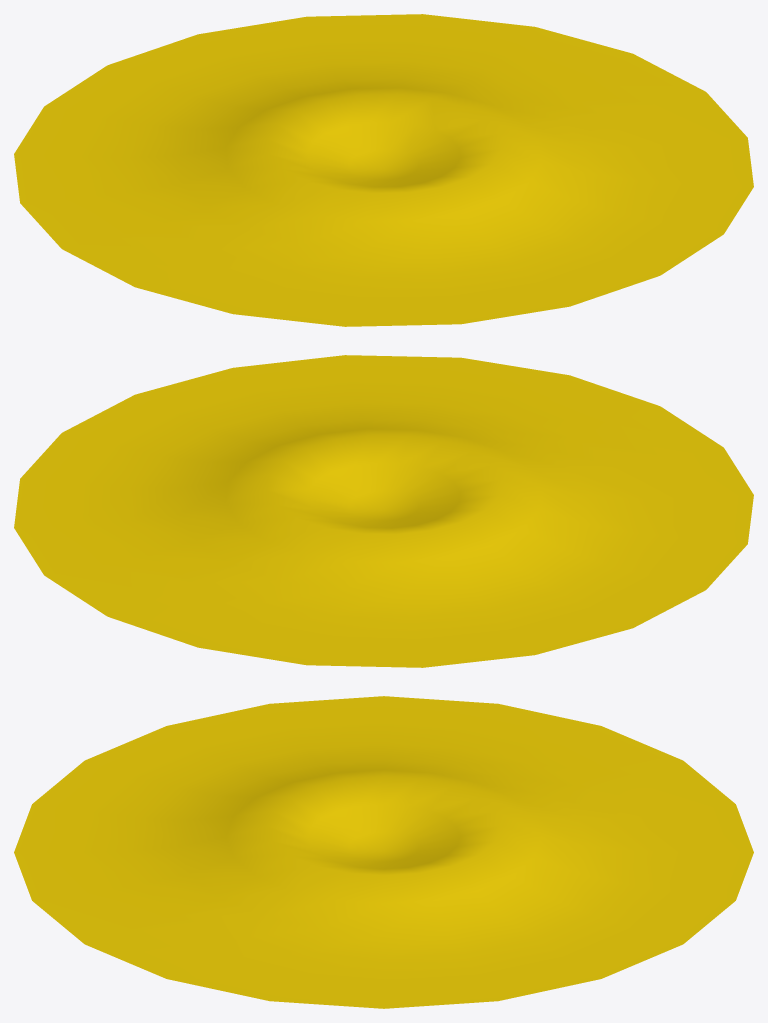
File: BeerShockwave_1.fbx
3 renders of one model, top to bottom at view 1: azimuth 30°, elevation 25°; view 2: azimuth 150°, elevation 25°; view 3: azimuth 270°, elevation 25°, orthographic.
Visible parts, largest first — view 1: pCylinder6; view 2: pCylinder6; view 3: pCylinder6.
Part boxes in pixels (left/top/right/bottom): pCylinder6: left=14, top=14, right=753, bottom=326; pCylinder6: left=14, top=355, right=753, bottom=667; pCylinder6: left=14, top=696, right=753, bottom=1008.
Bounding box in the file's own units: 4.09 × 0.1612 × 4.09.
